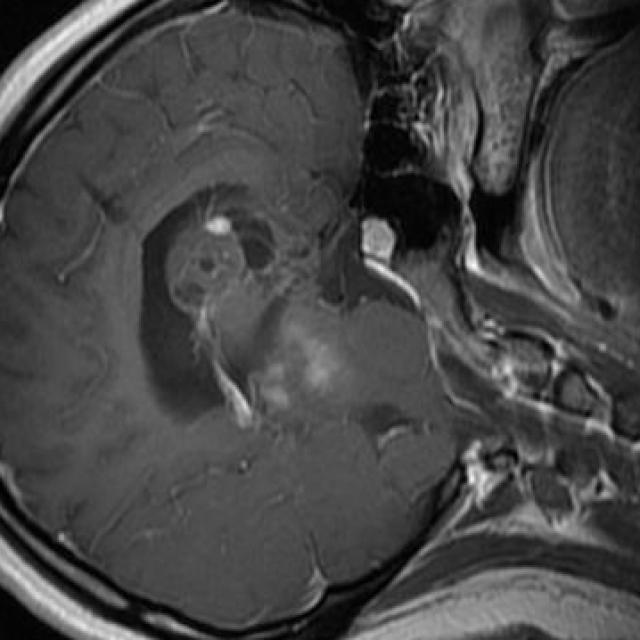glioma: (166, 203, 353, 431)
